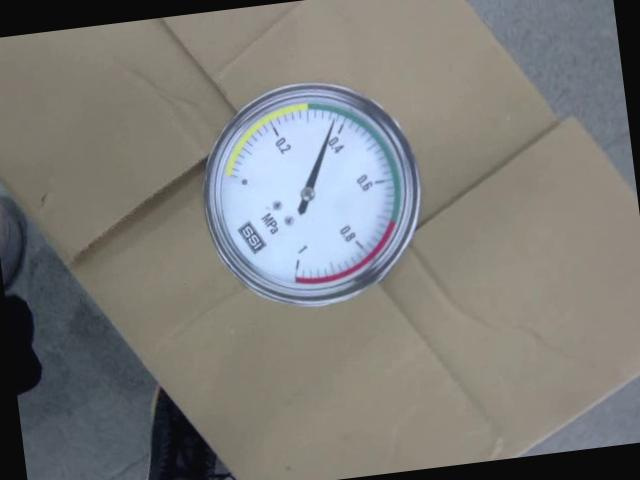Dashboard: (187, 71, 436, 320)
ssi: (232, 220, 266, 256)
